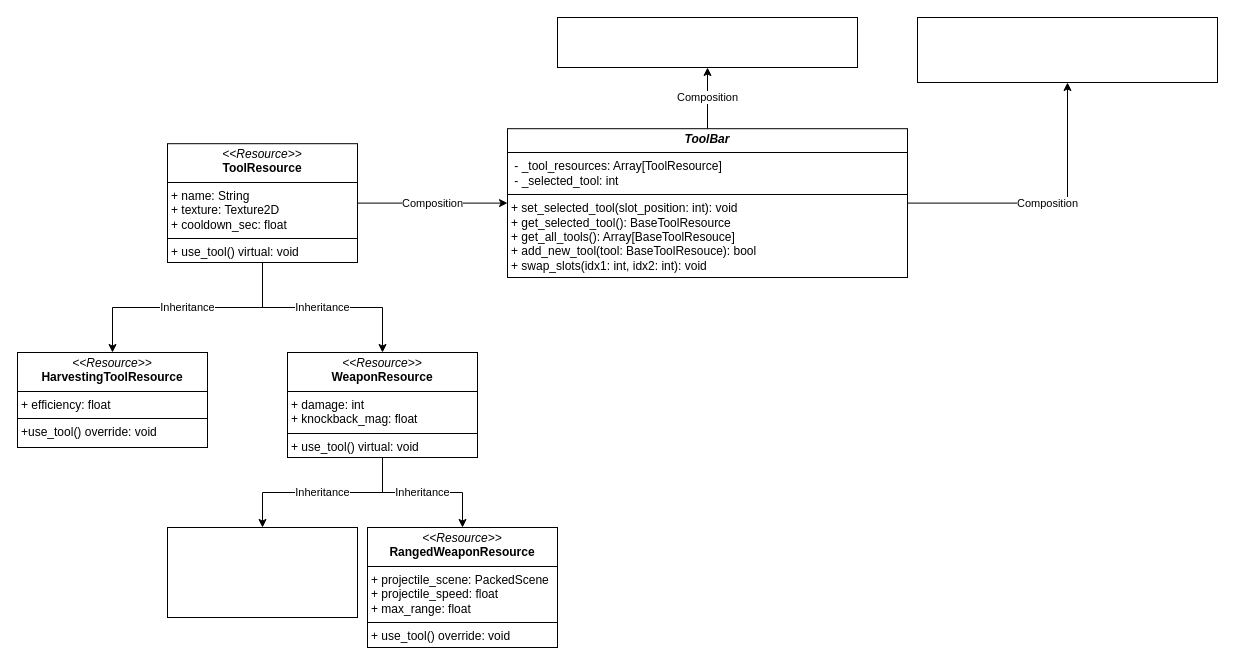
This 1235x665 diagram has some shape labels left out. The centre of each missing label's shape, as x and y in pixels:
<<Resource>> MeleeWeaponResource + use_tool() override: void: point 262,572
Player - _toolbar: ToolBar: point 707,42
ToolBarUi - _toolbar: ToolBar: point 1067,49
